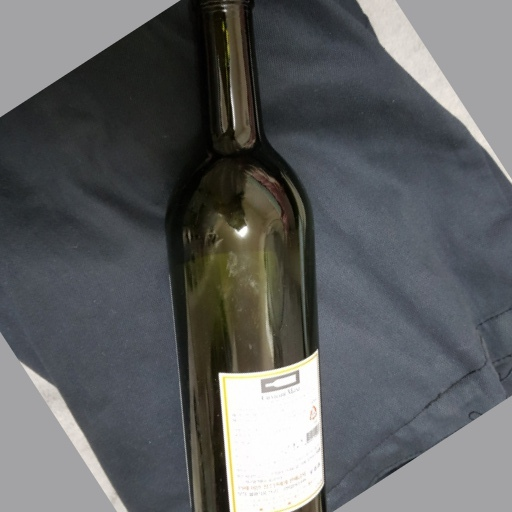Glass_2: (165, 1, 330, 512)
